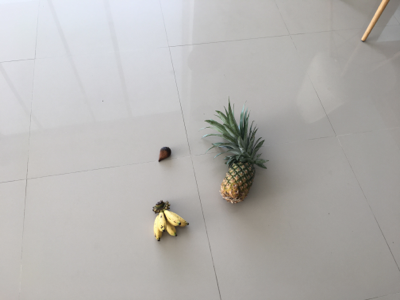banana: (152, 201, 191, 244)
pineapple: (203, 98, 268, 205)
snake fruit: (158, 146, 172, 163)
